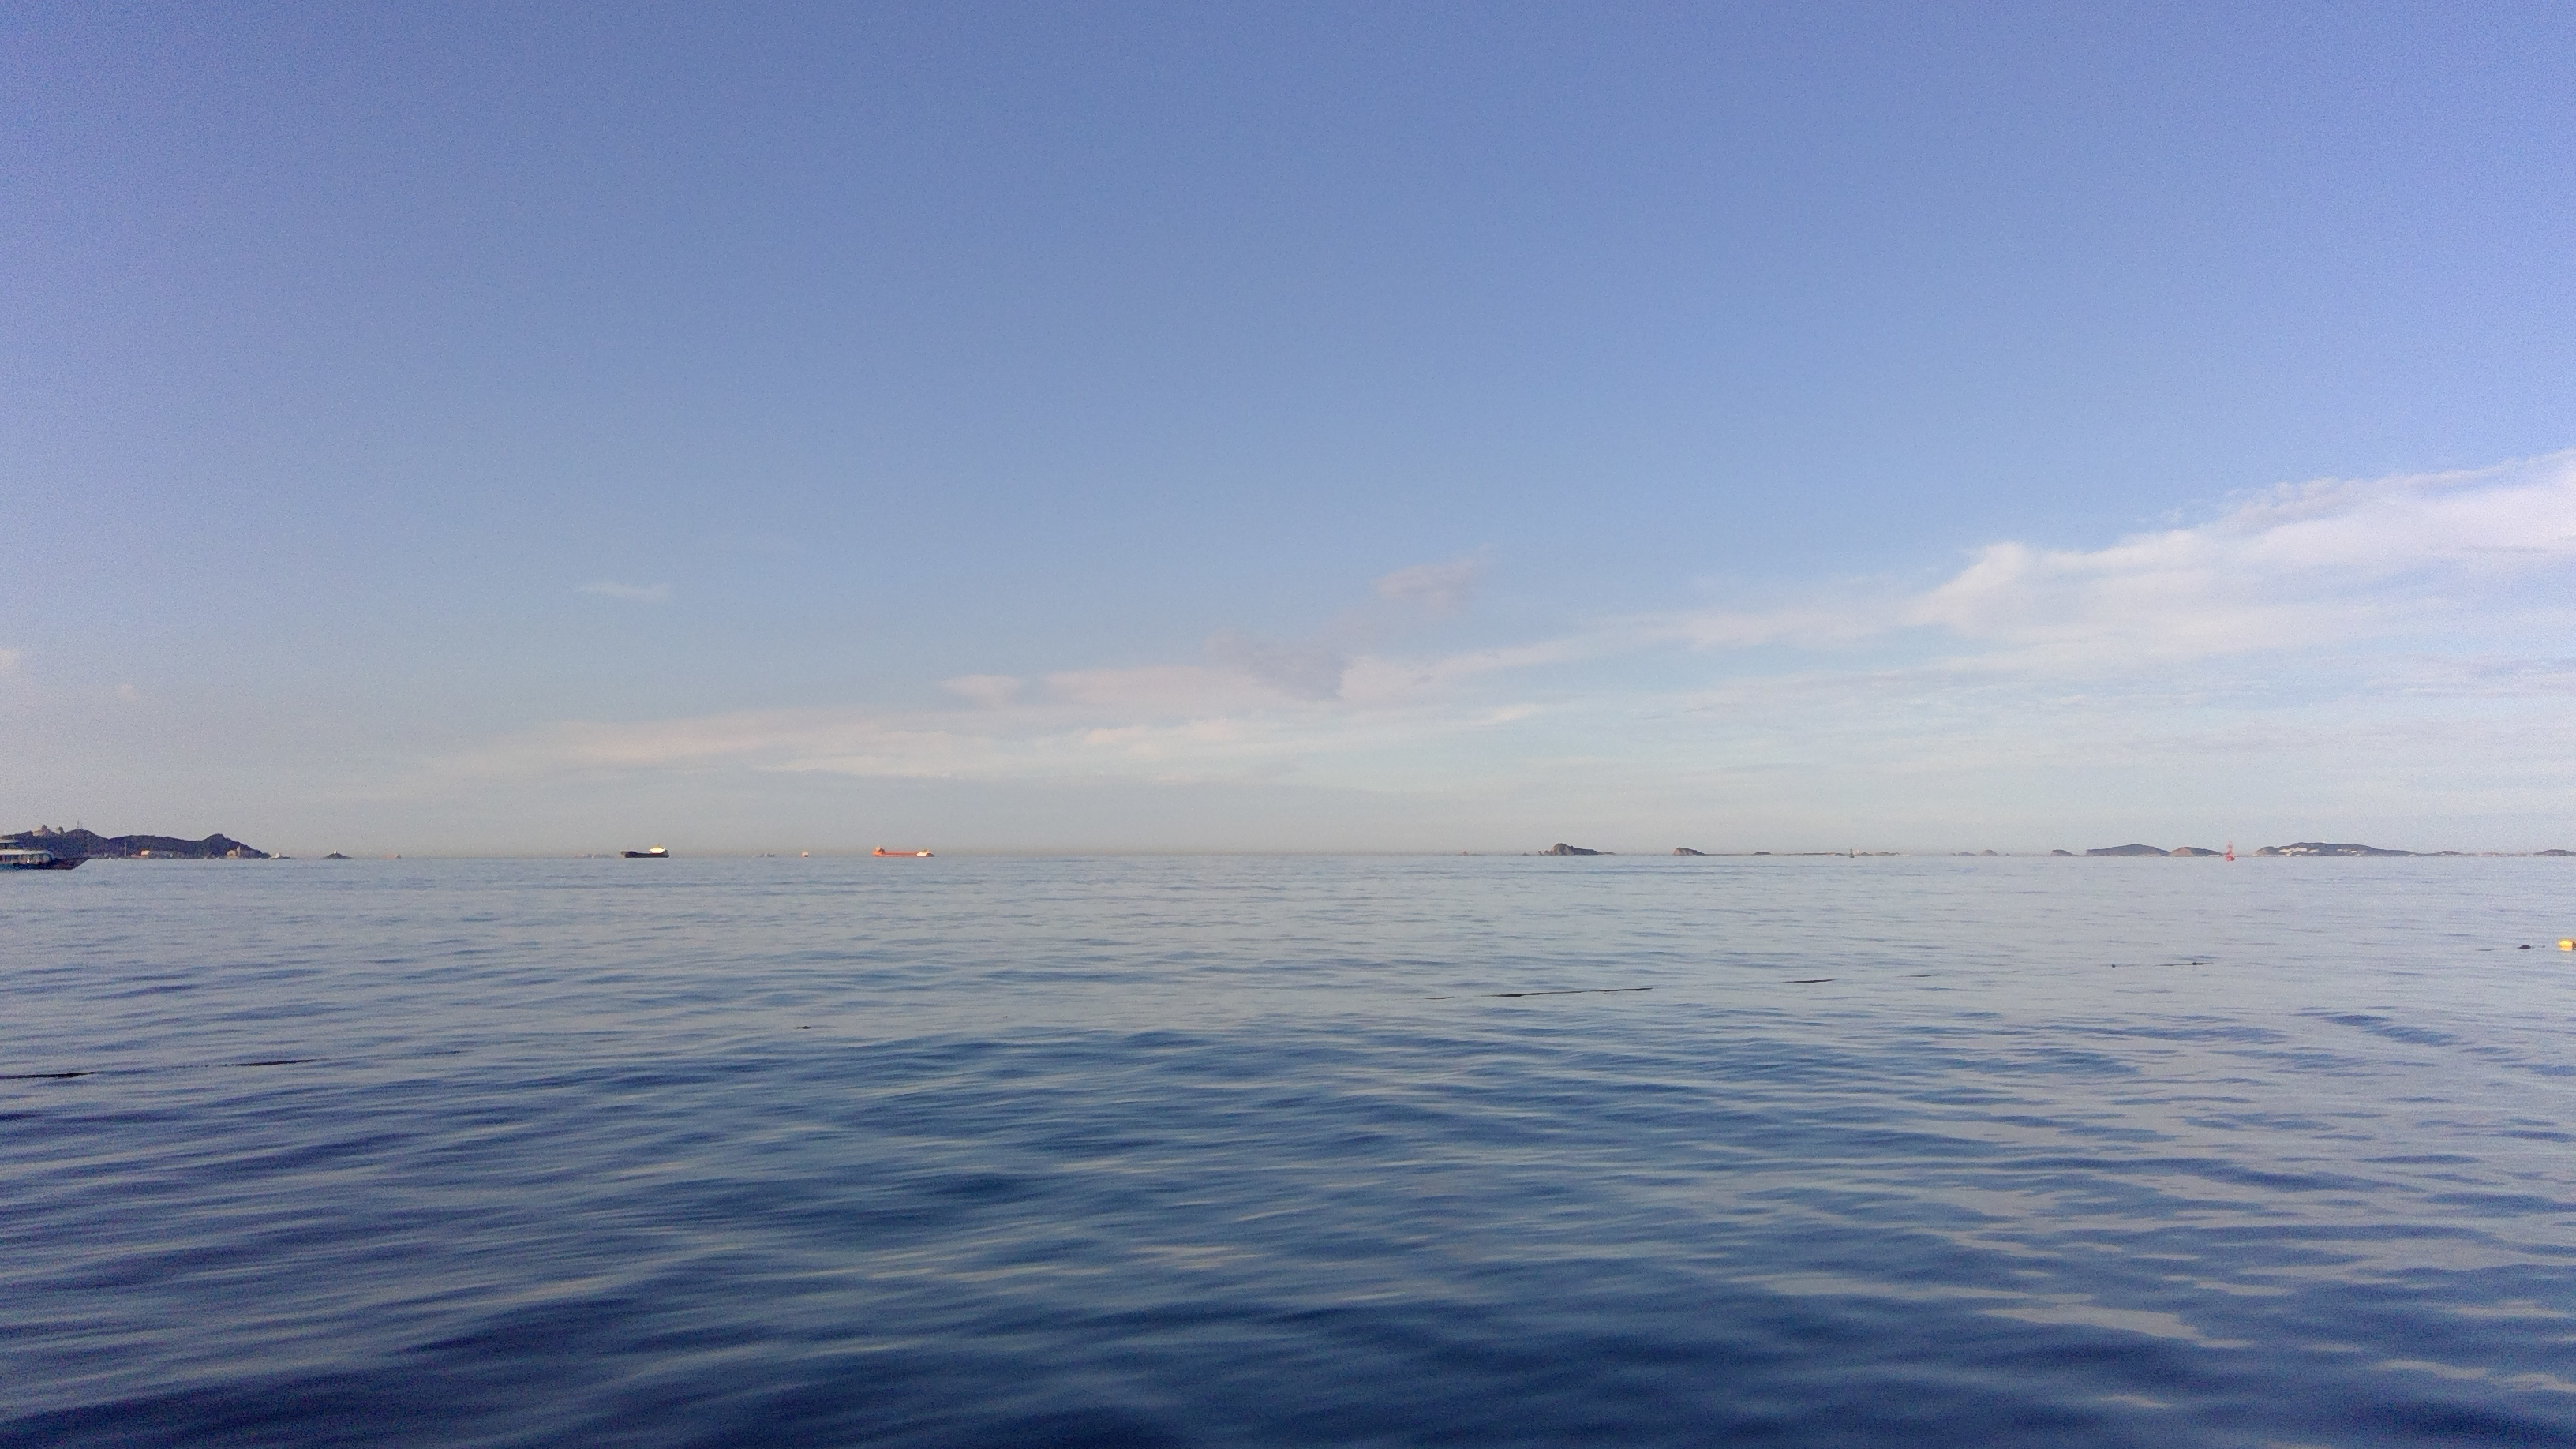platform: (874, 844, 947, 862)
rock: (5, 837, 287, 876), (2263, 835, 2442, 865), (2054, 835, 2229, 863), (1548, 835, 1608, 878)
